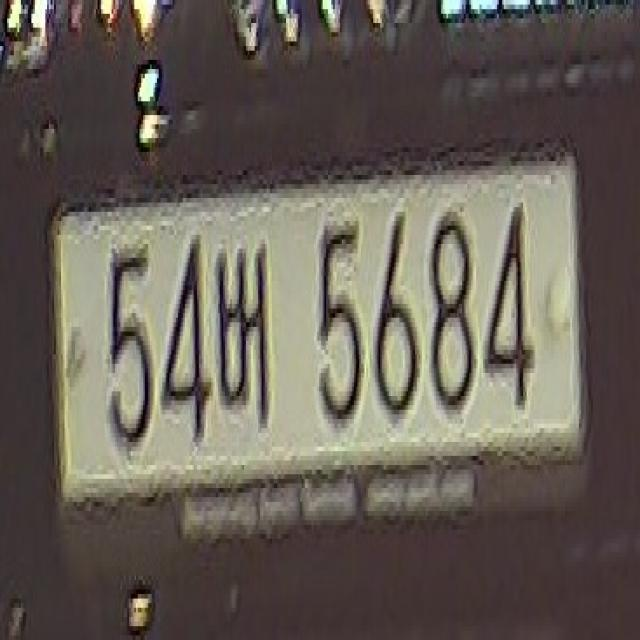4: (155, 202, 215, 456), (481, 194, 539, 424)
5: (100, 226, 160, 465), (310, 203, 364, 442)
6: (369, 184, 424, 442)
8: (424, 189, 474, 428)
beo: (204, 216, 286, 452)
license_plate: (47, 129, 590, 589)
